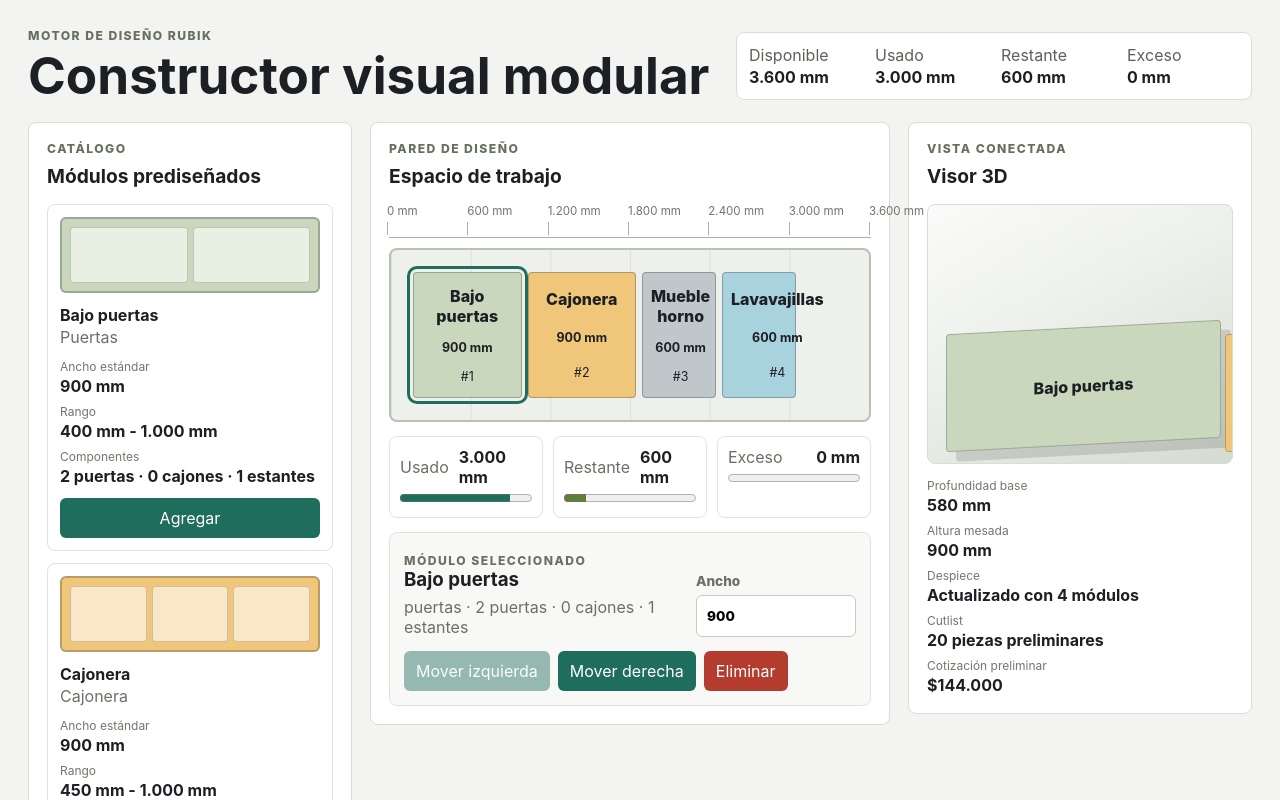
Scenario: App › edits module width and recalculates used and remaining space
Replace the text in the number field named "Editar ancho" with "400". click: (776, 616)
box: [696, 595, 856, 637]
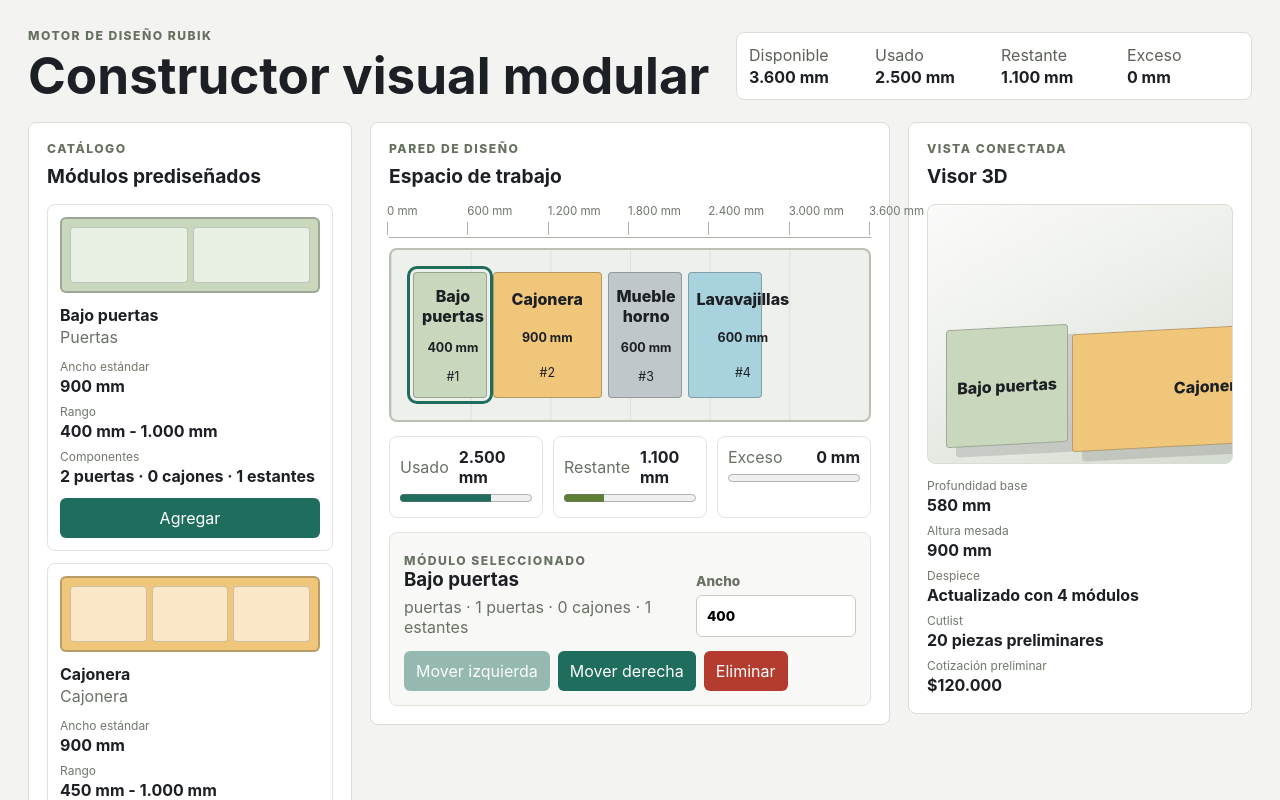
Expected: the text "400 mm" is shown, [427, 340, 478, 355]
Expected: the text "2.500 mm" below "Disponible" is shown, [875, 67, 955, 87]
Expected: the text "1.100 mm" below "Disponible" is shown, [1001, 67, 1073, 87]
